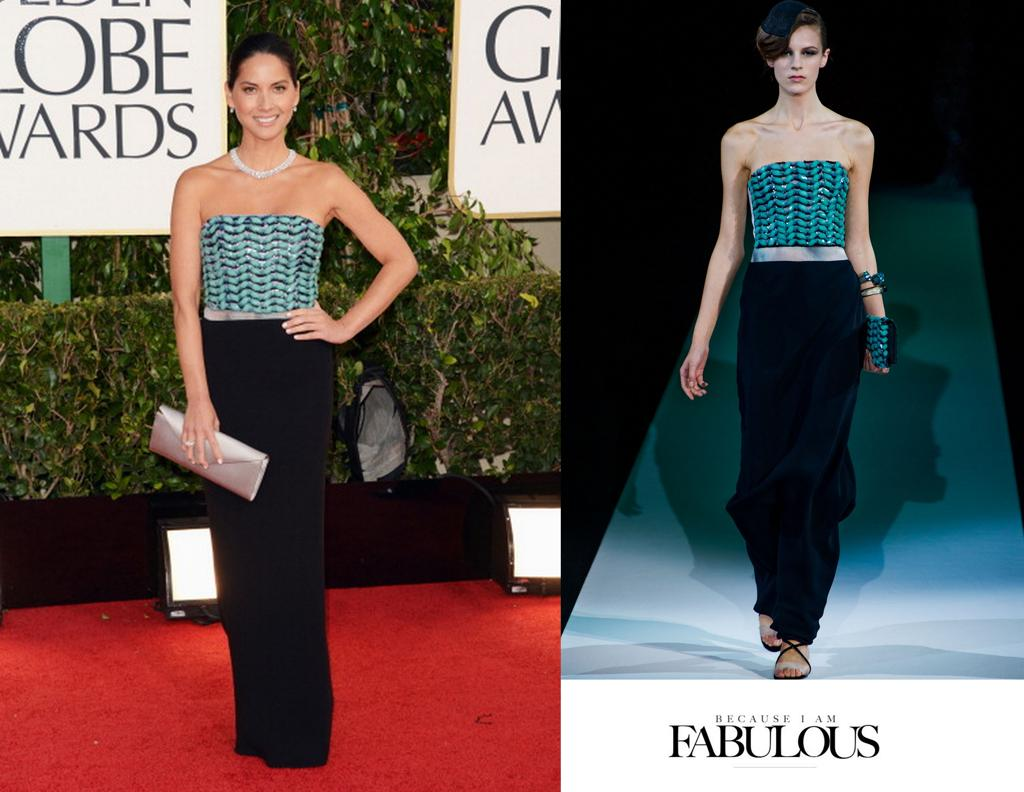face: (232, 56, 295, 139), (773, 30, 822, 93)
